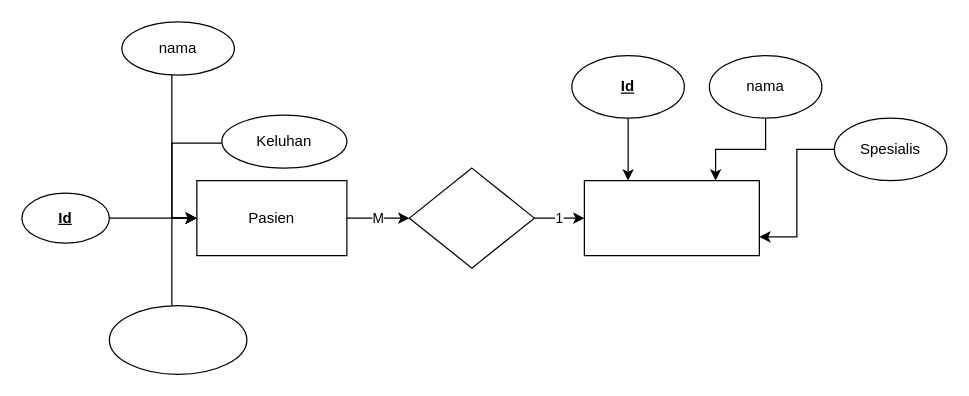
Some shapes in this 969 by 396 pixel diagram are drawn without their labels. Each missing label, with the centre of its shape:
"Dokter" belongs at [671,217].
"Merujuk" belongs at [471,217].
"riwayat_penyakit" belongs at [177,339].
